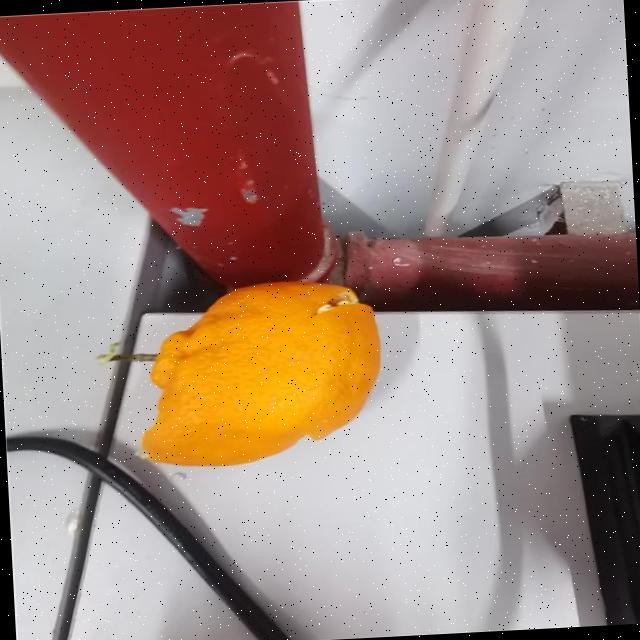orange-peel: (130, 274, 387, 471)
